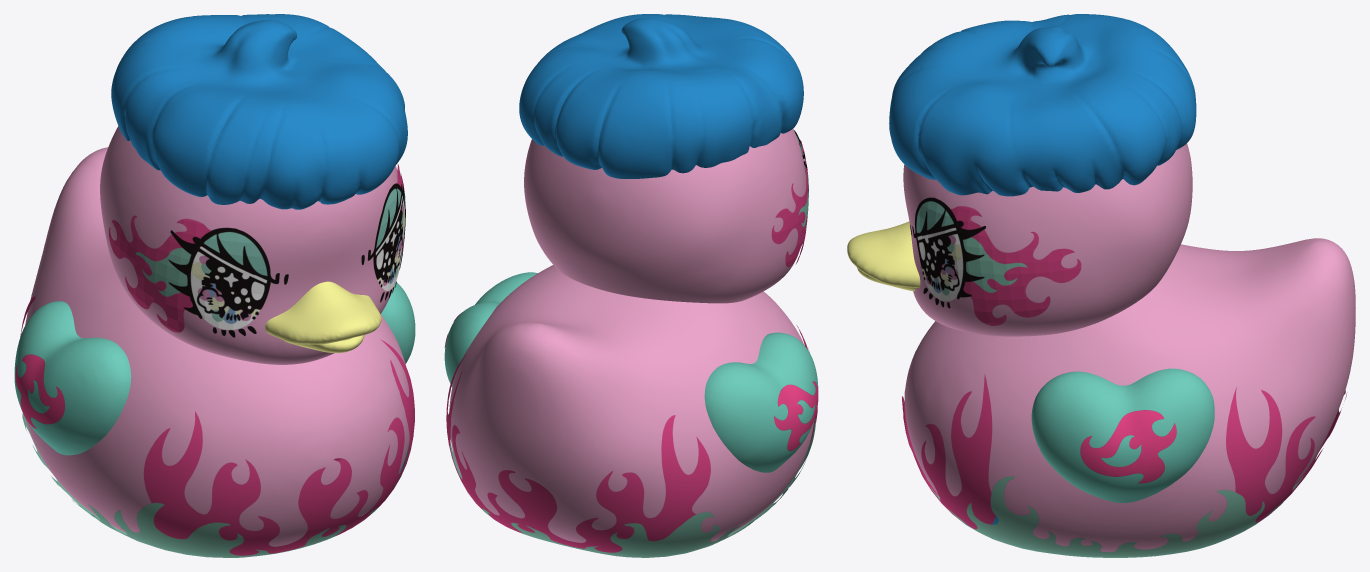
3 renders of one model, left to right at view 1: azimuth 30°, elevation 25°; view 2: azimuth 150°, elevation 25°; view 3: azimuth 270°, elevation 25°, orthographic. The views are drawn at different scales.
Visible parts, largest first — view 1: Torebi 5, H-01 1, Fix, 平面.001, 平面.002, Torebi 7, Torebi 3, 平面.004, Torebi 4; view 2: Torebi 5, H-01 1, Fix, 平面.001, Torebi 7, Torebi 4, 平面.002, 平面.004; view 3: Torebi 5, H-01 1, Fix, 平面.001, Torebi 4, 平面.002, 平面.003, Torebi 3.
Part boxes in pixels (x1,y1,x2,y2): Torebi 5: [25, 147, 409, 546]; H-01 1: [111, 14, 407, 209]; Fix: [100, 126, 397, 364]; 平面.001: [20, 296, 414, 557]; 平面.002: [109, 164, 405, 337]; Torebi 7: [14, 301, 131, 455]; Torebi 3: [265, 281, 381, 352]; 平面.004: [15, 354, 64, 428]; Torebi 4: [381, 282, 415, 363]; Torebi 5: [449, 265, 814, 542]; H-01 1: [519, 14, 803, 178]; Fix: [524, 129, 806, 303]; 平面.001: [446, 325, 817, 557]; Torebi 7: [704, 332, 818, 472]; Torebi 4: [444, 272, 537, 386]; 平面.002: [771, 130, 808, 267]; 平面.004: [774, 381, 818, 450]; Torebi 5: [904, 238, 1355, 552]; H-01 1: [889, 14, 1196, 196]; Fix: [903, 143, 1192, 336]; 平面.001: [902, 374, 1346, 557]; Torebi 4: [1031, 368, 1214, 502]; 平面.002: [910, 197, 1081, 325]; 平面.003: [1080, 410, 1176, 483]; Torebi 3: [847, 221, 920, 291].
Size of the model in its own units: 50.64 by 65.13 by 62.08.
Materials: 9 (4 with a texture image).
